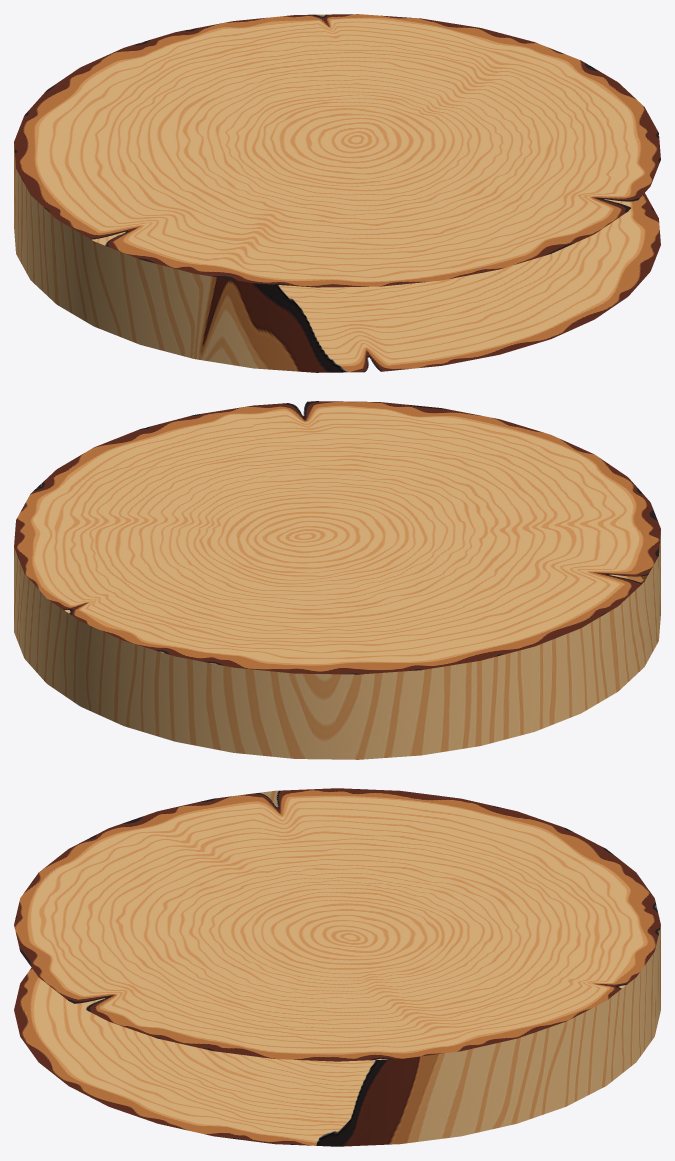
The model's file is Timur.dae.
The picture shows the model from 3 angles, top to bottom: view 1: azimuth 30°, elevation 25°; view 2: azimuth 150°, elevation 25°; view 3: azimuth 270°, elevation 25°; orthographic projection.
Visible parts, largest first — view 1: Circle; view 2: Circle; view 3: Circle.
Boxes of the visible parts, <box> form: Circle: <box>14,14,660,372</box>; Circle: <box>14,401,660,759</box>; Circle: <box>14,788,660,1146</box>.
Size of the model in its own units: 2 by 2 by 0.2904.
Materials: 1 (1 with a texture image).
